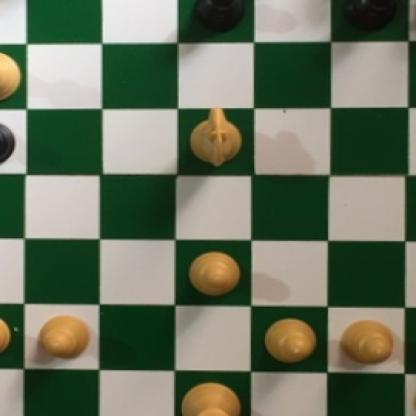black-pawn: (342, 0, 398, 36), (191, 0, 243, 36), (0, 120, 18, 167)
white-king: (177, 382, 242, 416)
white-knight: (188, 104, 242, 170)
white-pawn: (336, 316, 398, 367), (260, 316, 319, 367), (188, 247, 242, 300), (37, 312, 96, 359), (0, 312, 15, 361), (414, 317, 416, 367)
white-queen: (0, 42, 23, 99)
white-rook: (407, 371, 416, 416)
